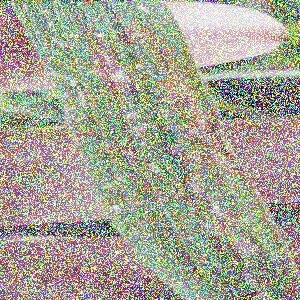Brown_Spot: (155, 59, 198, 113), (93, 48, 134, 100), (99, 133, 142, 180), (220, 229, 271, 263), (207, 143, 251, 180), (199, 198, 251, 229), (56, 121, 106, 153), (174, 113, 223, 145), (234, 266, 277, 300), (189, 215, 228, 249), (179, 172, 209, 196), (183, 146, 206, 173)
